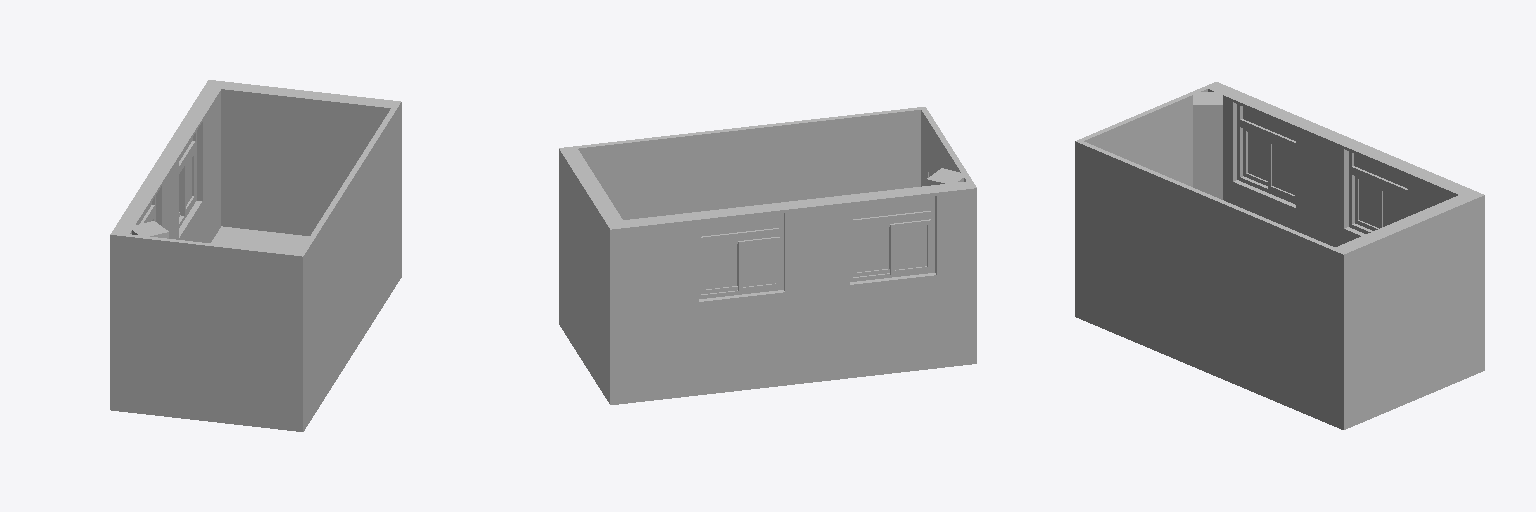
The picture shows the model from 3 angles: view 1: azimuth 30°, elevation 25°; view 2: azimuth 150°, elevation 25°; view 3: azimuth 270°, elevation 25°; orthographic projection.
Visible parts, largest first — view 1: Mesh3 Group3 Model, Mesh1 Group1 Model, Mesh4 Group4 Model, Mesh2 Group2 Model, Mesh19 Window_Sliding_Casement_14_2 Window_Sliding_7_2 Group7 Mo; view 2: Mesh3 Group3 Model, Mesh4 Group4 Model, Mesh1 Group1 Model, Mesh21 Glazing9 Window_Sliding_Casement_14_3 Window_Sliding_7_2 , Mesh8 Glazing1 Window_Sliding_Casement_14 Window_Sliding_7_1 Gro, Mesh11 Glazing3 Window_Sliding_Casement_14_1 Window_Sliding_7_1 , Mesh18 Glazing7 Window_Sliding_Casement_14_2 Window_Sliding_7_2 , Mesh15 Glazing5 Window_Fixed_2_1 Group6 Model, Mesh25 Glazing11 Window_Fixed_2_2 Group7 Model, Mesh16 Window_Sliding_Main_Frame_7_1 Window_Sliding_7_2 Group7 M, Mesh6 Window_Sliding_Main_Frame_7 Window_Sliding_7_1 Group6 Mode, Mesh12 Window_Sliding_Casement_14_1 Window_Sliding_7_1 Group6 Mo (+3 smaller); view 3: Mesh3 Group3 Model, Mesh4 Group4 Model, Mesh2 Group2 Model, Mesh1 Group1 Model, Mesh5 Group5 Model, Mesh7 Glazing Window_Sliding_Casement_14 Window_Sliding_7_1 Grou, Mesh6 Window_Sliding_Main_Frame_7 Window_Sliding_7_1 Group6 Mode, Mesh10 Glazing2 Window_Sliding_Casement_14_1 Window_Sliding_7_1 , Mesh20 Glazing8 Window_Sliding_Casement_14_3 Window_Sliding_7_2 , Mesh16 Window_Sliding_Main_Frame_7_1 Window_Sliding_7_2 Group7 M, Mesh24 Glazing10 Window_Fixed_2_2 Group7 Model, Mesh14 Glazing4 Window_Fixed_2_1 Group6 Model (+1 smaller).
Part boxes in pixels (bbox=[...]): Mesh3 Group3 Model: bbox=[110, 80, 401, 411]; Mesh1 Group1 Model: bbox=[128, 234, 304, 393]; Mesh4 Group4 Model: bbox=[299, 108, 396, 390]; Mesh2 Group2 Model: bbox=[128, 226, 396, 431]; Mesh19 Window_Sliding_Casement_14_2 Window_Sliding_7_2 Group7 Mo: bbox=[180, 149, 195, 215]; Mesh3 Group3 Model: bbox=[559, 146, 976, 404]; Mesh4 Group4 Model: bbox=[576, 107, 920, 219]; Mesh1 Group1 Model: bbox=[920, 107, 971, 186]; Mesh21 Glazing9 Window_Sliding_Casement_14_3 Window_Sliding_7_2 : bbox=[743, 242, 775, 286]; Mesh8 Glazing1 Window_Sliding_Casement_14 Window_Sliding_7_1 Gro: bbox=[857, 227, 888, 271]; Mesh11 Glazing3 Window_Sliding_Casement_14_1 Window_Sliding_7_1 : bbox=[895, 225, 926, 269]; Mesh18 Glazing7 Window_Sliding_Casement_14_2 Window_Sliding_7_2 : bbox=[705, 244, 736, 289]; Mesh15 Glazing5 Window_Fixed_2_1 Group6 Model: bbox=[853, 197, 930, 218]; Mesh25 Glazing11 Window_Fixed_2_2 Group7 Model: bbox=[701, 215, 778, 236]; Mesh16 Window_Sliding_Main_Frame_7_1 Window_Sliding_7_2 Group7 M: bbox=[699, 231, 783, 298]; Mesh6 Window_Sliding_Main_Frame_7 Window_Sliding_7_1 Group6 Mode: bbox=[850, 214, 934, 281]; Mesh12 Window_Sliding_Casement_14_1 Window_Sliding_7_1 Group6 Mo: bbox=[890, 219, 931, 274]; Mesh3 Group3 Model: bbox=[1205, 82, 1484, 429]; Mesh4 Group4 Model: bbox=[1079, 141, 1334, 386]; Mesh2 Group2 Model: bbox=[1075, 279, 1330, 424]; Mesh1 Group1 Model: bbox=[1075, 87, 1207, 279]; Mesh5 Group5 Model: bbox=[1193, 92, 1222, 199]; Mesh7 Glazing Window_Sliding_Casement_14 Window_Sliding_7_1 Grou: bbox=[1272, 145, 1294, 194]; Mesh6 Window_Sliding_Main_Frame_7 Window_Sliding_7_1 Group6 Mode: bbox=[1237, 121, 1295, 204]; Mesh10 Glazing2 Window_Sliding_Casement_14_1 Window_Sliding_7_1 : bbox=[1248, 132, 1267, 180]; Mesh20 Glazing8 Window_Sliding_Casement_14_3 Window_Sliding_7_2 : bbox=[1359, 179, 1378, 227]; Mesh16 Window_Sliding_Main_Frame_7_1 Window_Sliding_7_2 Group7 M: bbox=[1349, 168, 1407, 233]; Mesh24 Glazing10 Window_Fixed_2_2 Group7 Model: bbox=[1354, 154, 1407, 188]; Mesh14 Glazing4 Window_Fixed_2_1 Group6 Model: bbox=[1243, 107, 1295, 140].
Bounding box in the file's own units: 6.77 × 3.2 × 6.77.